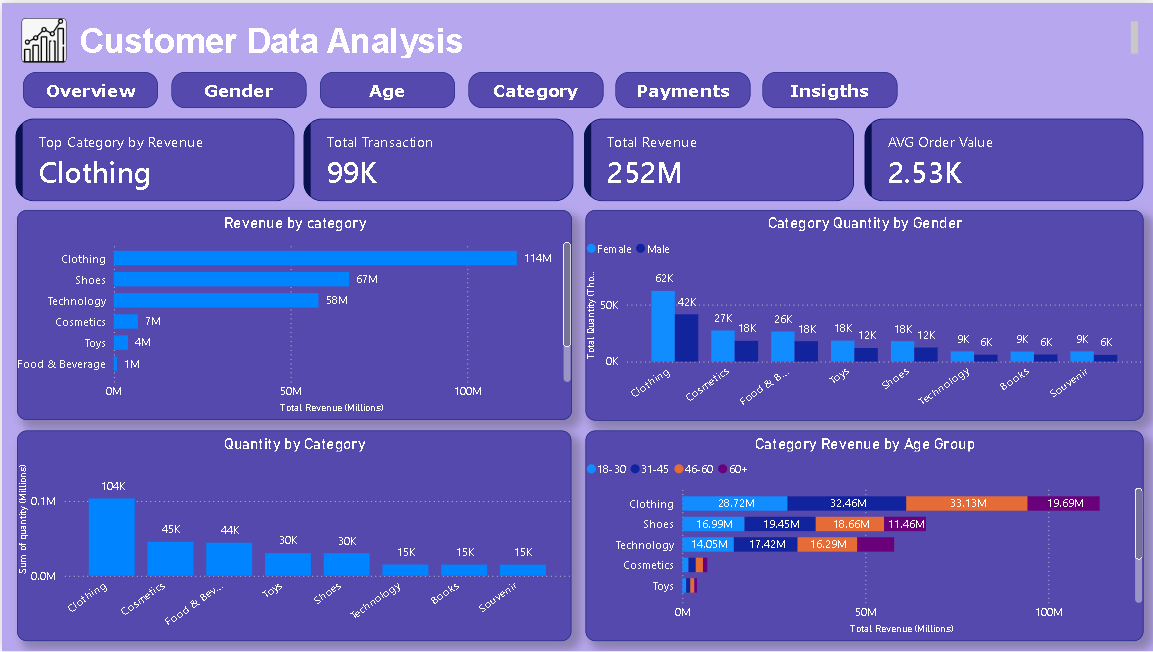

The dashboard page shown, as its layout file describes it:
{"tool":"powerbi","page":{"name":"Category Analysis","canvas":[1280,720],"ordinal":3},"visuals":[{"type":"cardVisual","fields":{"Data":["project_customer_segmentation customer.Top Category Name"]},"box":[15,127.5,310,92.5],"z":0},{"type":"textbox","box":[81.4,15.7,1185.7,50],"z":1000},{"type":"cardVisual","fields":{"Data":["project_customer_segmentation customer.Total Transaction"]},"box":[335,127.5,300,92.5],"z":2000},{"type":"cardVisual","fields":{"Data":["project_customer_segmentation customer.Total Revenue"]},"box":[646.2,127.5,300,92.5],"z":3000},{"type":"cardVisual","fields":{"Data":["project_customer_segmentation customer.AVG Order Value"]},"box":[957.5,127.5,310,92.5],"z":4000},{"type":"actionButton","box":[22.5,76.2,150,40],"z":5000},{"type":"actionButton","box":[187.5,76.2,150,40],"z":6000},{"type":"actionButton","box":[353.8,76.2,150,40],"z":7000},{"type":"actionButton","box":[518.8,76.2,150,40],"z":8000},{"type":"actionButton","box":[681.2,76.2,150,40],"z":9000},{"type":"actionButton","box":[845,76.2,150,40],"z":10000},{"type":"image","box":[22,16,50,50],"z":11000},{"type":"clusteredBarChart","title":"Revenue by category","fields":{"Y":["project_customer_segmentation customer.Total Revenue"],"Category":["project_customer_segmentation customer.category"]},"box":[16.7,230,616.7,233.3],"z":12000},{"type":"clusteredColumnChart","title":"Category Quantity by Gender","fields":{"Category":["project_customer_segmentation customer.category"],"Y":["project_customer_segmentation customer.Total Quantity"],"Series":["project_customer_segmentation customer.gender"]},"box":[647.5,230,620,233.8],"z":13000},{"type":"columnChart","title":"Quantity by Category","fields":{"Category":["project_customer_segmentation customer.category"],"Y":["Sum(project_customer_segmentation customer.quantity)"]},"box":[16.2,475,616.2,233.8],"z":14000},{"type":"barChart","title":"Category Revenue by Age Group","fields":{"Category":["project_customer_segmentation customer.category"],"Series":["project_customer_segmentation customer.age_group"],"Y":["project_customer_segmentation customer.Total Revenue"]},"box":[647.5,475,620,233.8],"z":15000}]}

Visuals, with their boxes in screenshot pixels (x1, y1, x2, y2), scaled from the page's 1280x720 canvas onto the 1153x652 screenshot:
cardVisual - project_customer_segmentation customer.Top Category Name: [x1=14, y1=115, x2=293, y2=199]
textbox: [x1=73, y1=14, x2=1141, y2=59]
cardVisual - project_customer_segmentation customer.Total Transaction: [x1=302, y1=115, x2=572, y2=199]
cardVisual - project_customer_segmentation customer.Total Revenue: [x1=582, y1=115, x2=852, y2=199]
cardVisual - project_customer_segmentation customer.AVG Order Value: [x1=862, y1=115, x2=1142, y2=199]
actionButton: [x1=20, y1=69, x2=155, y2=105]
actionButton: [x1=169, y1=69, x2=304, y2=105]
actionButton: [x1=319, y1=69, x2=454, y2=105]
actionButton: [x1=467, y1=69, x2=602, y2=105]
actionButton: [x1=614, y1=69, x2=749, y2=105]
actionButton: [x1=761, y1=69, x2=896, y2=105]
image: [x1=20, y1=14, x2=65, y2=60]
"Revenue by category" clusteredBarChart: [x1=15, y1=208, x2=571, y2=420]
"Category Quantity by Gender" clusteredColumnChart: [x1=583, y1=208, x2=1142, y2=420]
"Quantity by Category" columnChart: [x1=15, y1=430, x2=570, y2=642]
"Category Revenue by Age Group" barChart: [x1=583, y1=430, x2=1142, y2=642]
